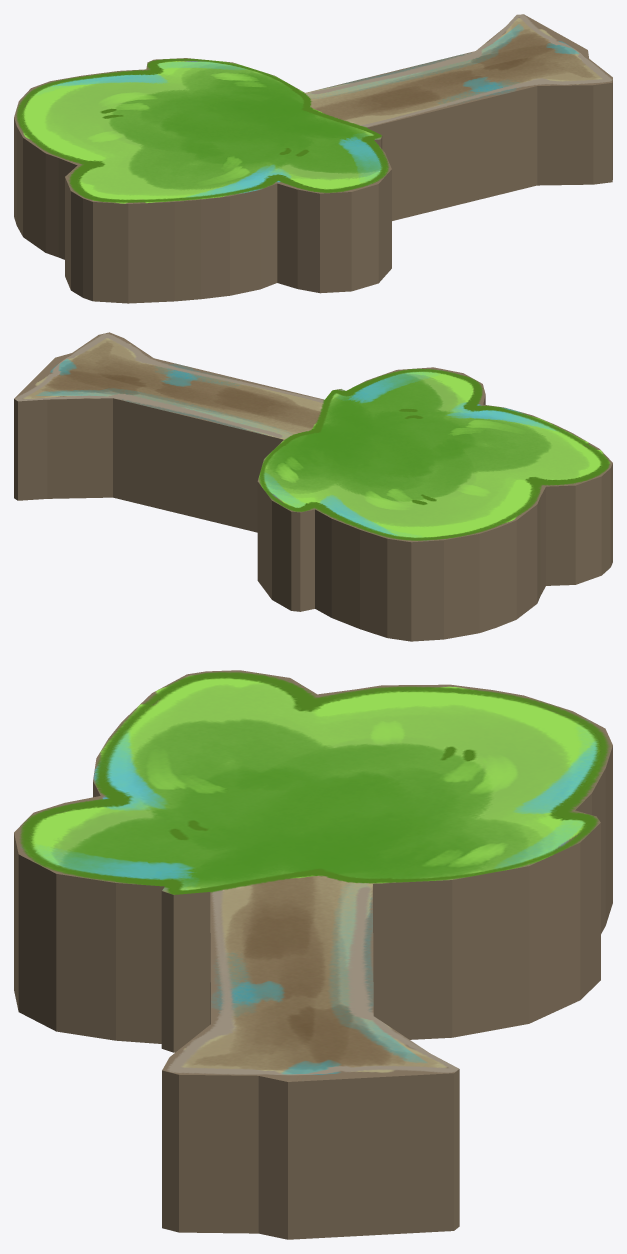
Rendered from Arbol1.fbx.
The picture shows the model from 3 angles, top to bottom: view 1: azimuth 30°, elevation 25°; view 2: azimuth 150°, elevation 25°; view 3: azimuth 270°, elevation 25°; orthographic projection. The views are drawn at different scales.
Parts seen in each view (by area): view 1: Cube.001; view 2: Cube.001; view 3: Cube.001.
Part boxes in pixels (bbox=[...]): Cube.001: bbox=[14, 14, 612, 303]; Cube.001: bbox=[14, 332, 612, 641]; Cube.001: bbox=[14, 670, 612, 1239].
Bounding box in the file's own units: 385 × 68.85 × 237.
